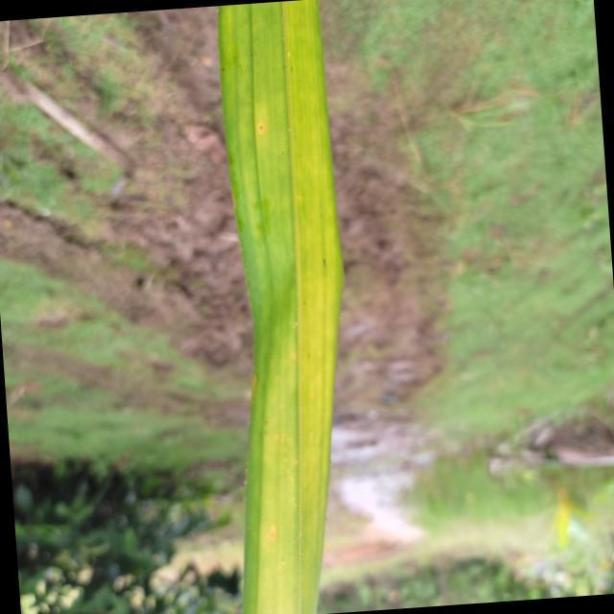nitrogen: (214, 0, 344, 614)
